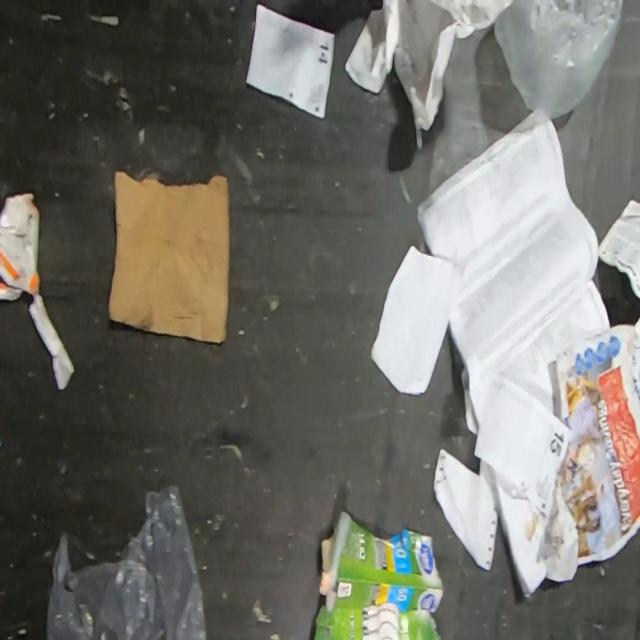cardboard: (106, 170, 231, 346), (312, 509, 446, 640)
soft_plastic: (44, 483, 208, 640), (492, 0, 624, 121), (0, 193, 76, 390)
